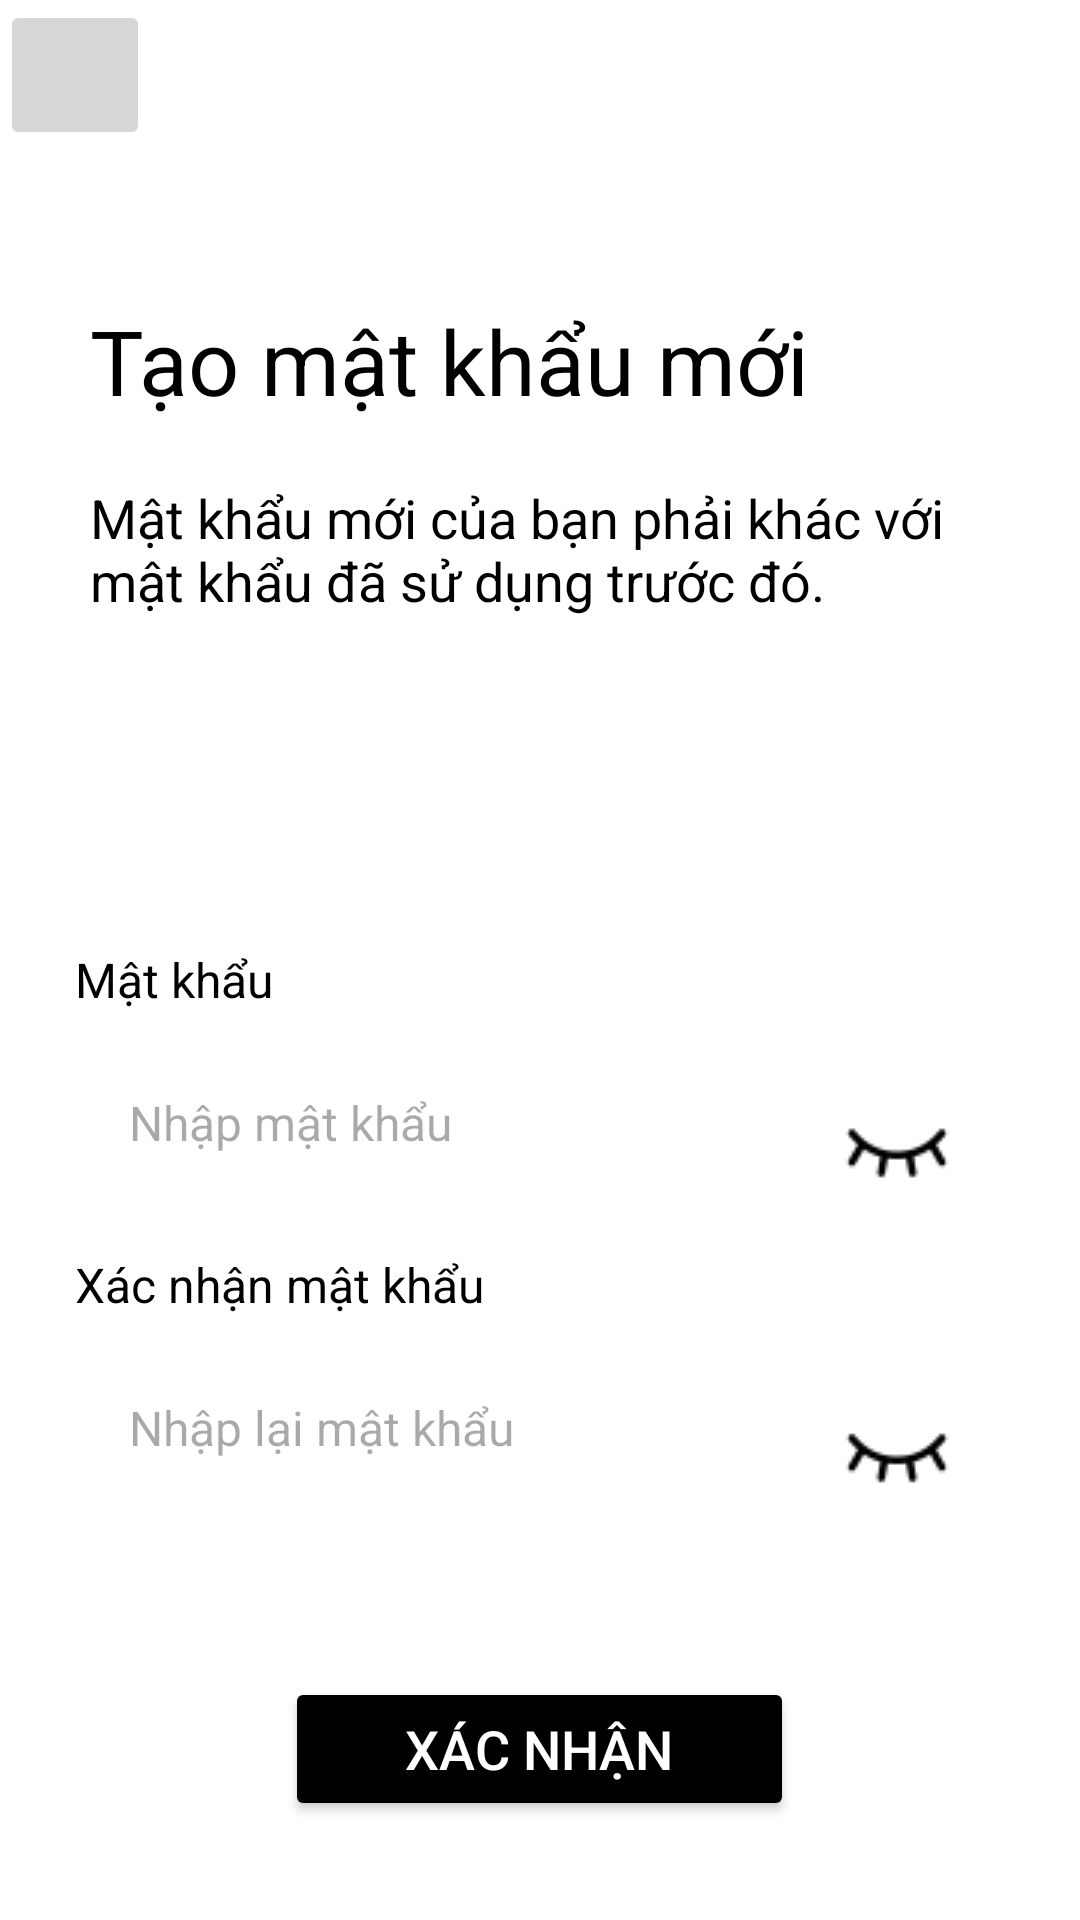

Named icons in this screenshot (1080×1920) and their bounding boxes, (x1, y1, x2, y2):
eye close: (846, 1128, 948, 1178), (846, 1433, 948, 1483)
